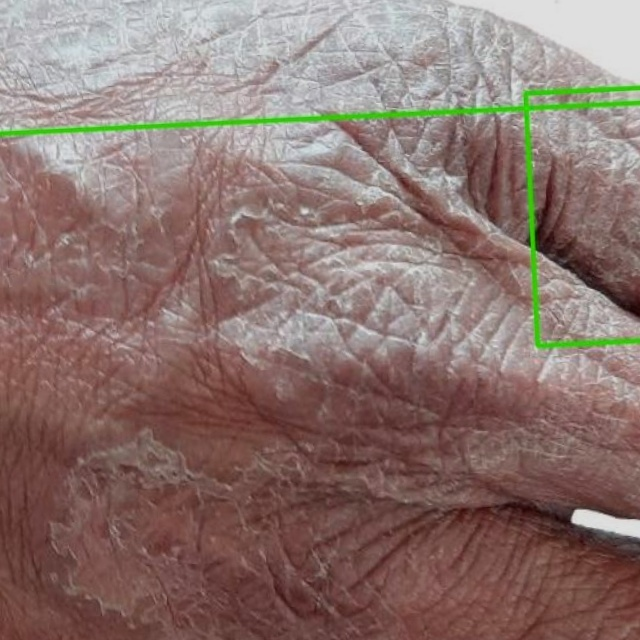Contact Dermatitis: (525, 87, 639, 345)
